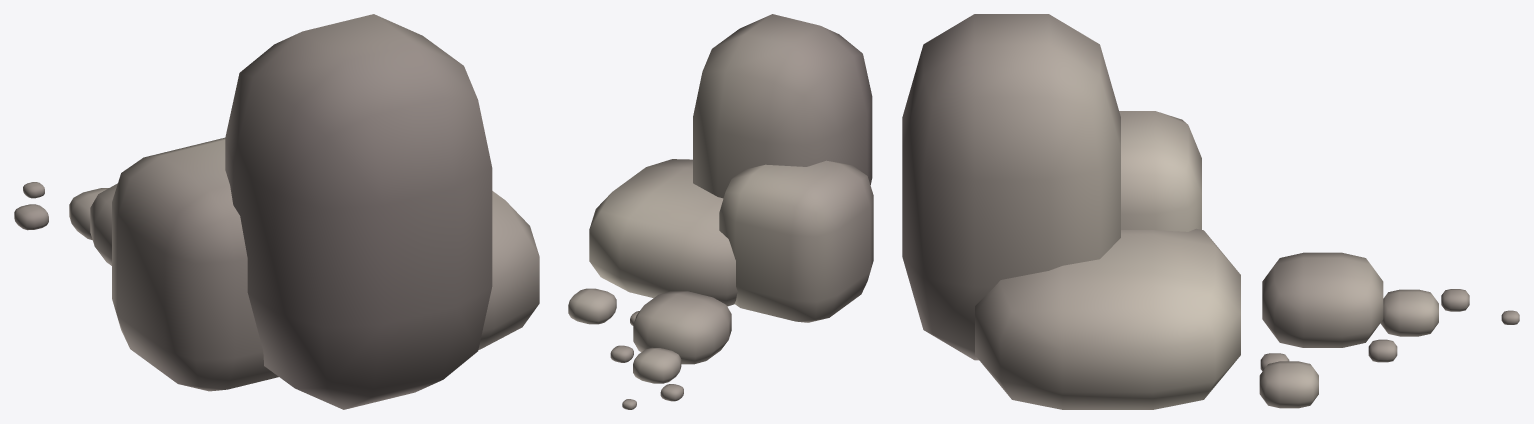
The model's file is Rocks_01.fbx.
3 views of the same model, side by side, from view 1: azimuth 30°, elevation 25°; view 2: azimuth 150°, elevation 25°; view 3: azimuth 270°, elevation 25° (orthographic). The views are drawn at different scales.
Visible parts, largest first — view 1: Rocks_01; view 2: Rocks_01; view 3: Rocks_01.
Boxes of the visible parts, box(x1,y1,x2,y2) form: Rocks_01: box(14, 14, 539, 409); Rocks_01: box(568, 14, 873, 409); Rocks_01: box(902, 14, 1519, 409).
Bounding box in the file's own units: 351 × 323 × 575.
